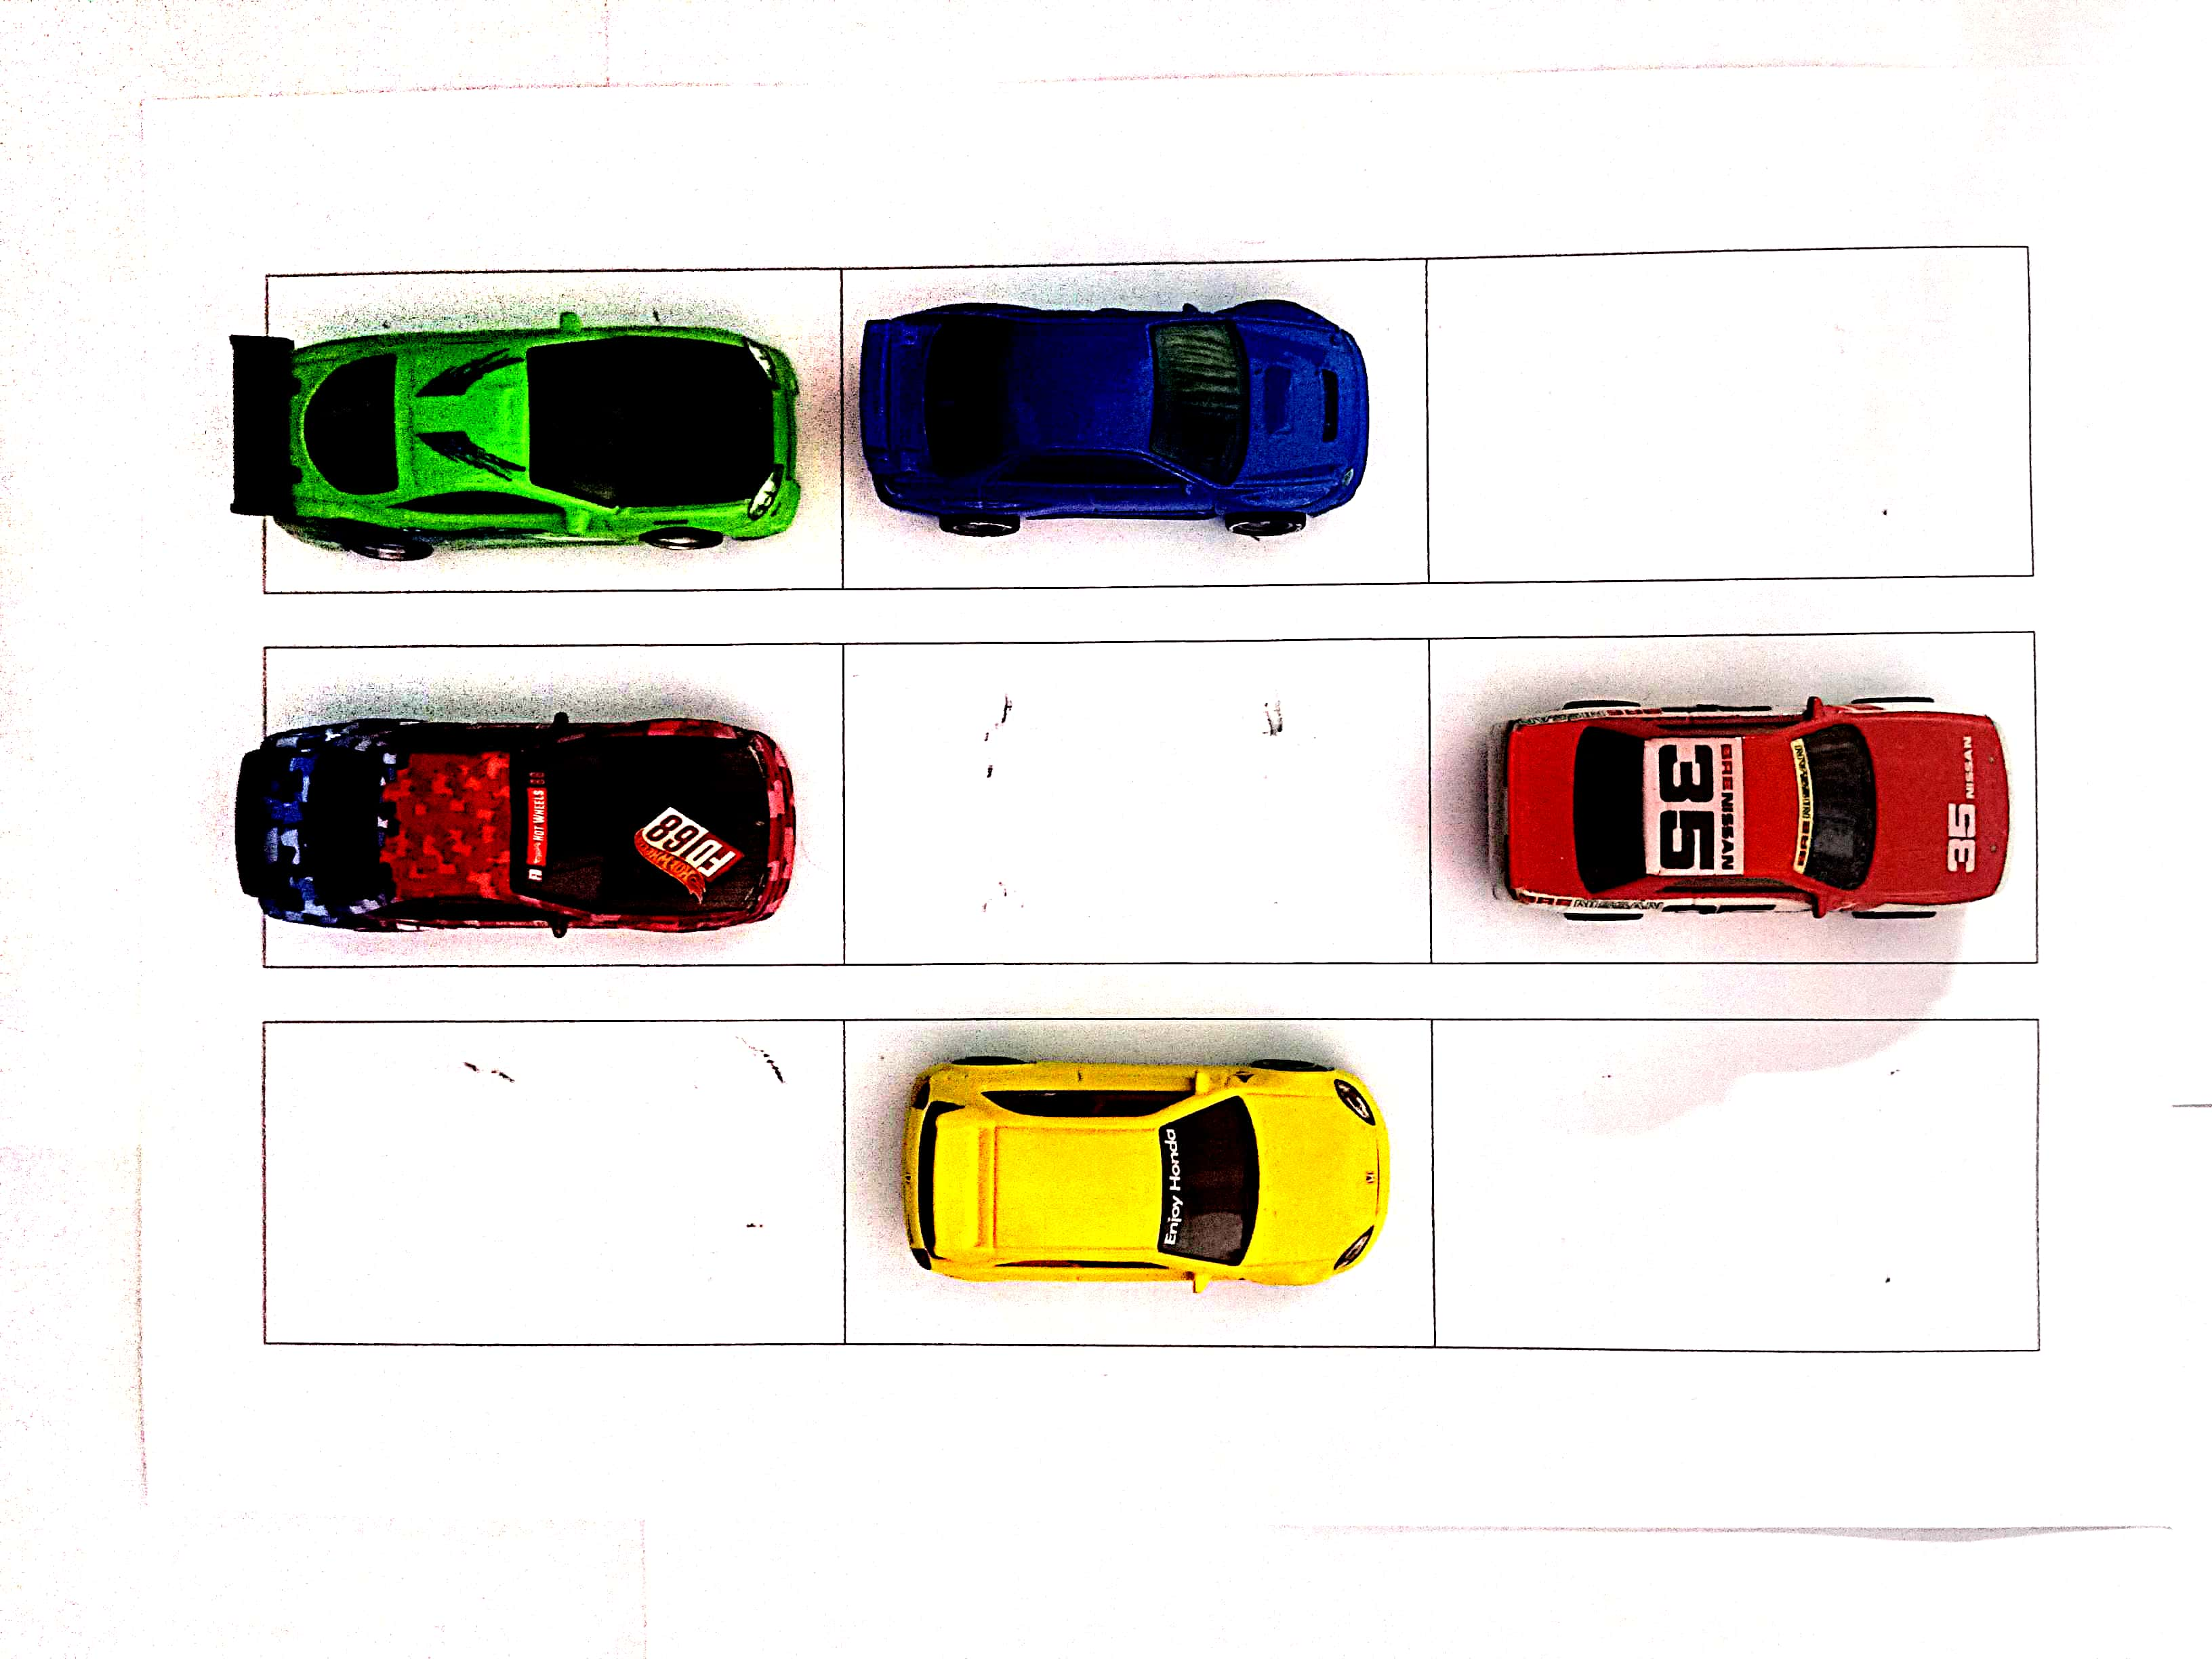Busy: (1432, 631, 2033, 962), (836, 261, 1423, 586), (848, 1026, 1433, 1342), (268, 272, 840, 589), (265, 659, 840, 972)
Free: (1437, 1018, 2033, 1342), (1433, 254, 2033, 575), (843, 645, 1432, 964), (268, 1023, 840, 1345)
